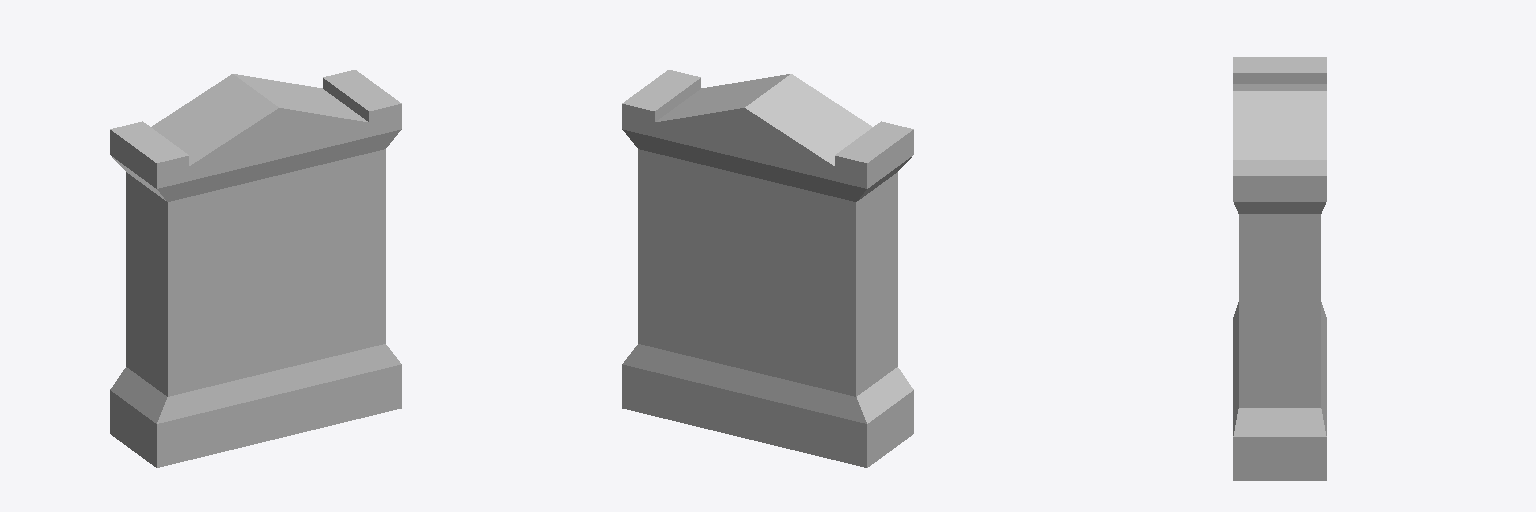
Rendered from Gravestone_Decorative_2.obj.
3 views of the same model, side by side, from view 1: azimuth 30°, elevation 25°; view 2: azimuth 150°, elevation 25°; view 3: azimuth 270°, elevation 25° (orthographic).
Visible parts, largest first — view 1: Gravestone_Decorative_2; view 2: Gravestone_Decorative_2; view 3: Gravestone_Decorative_2.
Boxes of the visible parts, x1=… form: Gravestone_Decorative_2: x1=110, y1=70, x2=401, y2=467; Gravestone_Decorative_2: x1=622, y1=70, x2=913, y2=467; Gravestone_Decorative_2: x1=1233, y1=57, x2=1326, y2=480.
Size of the model in its own units: 0.546 by 0.7034 by 0.1798.